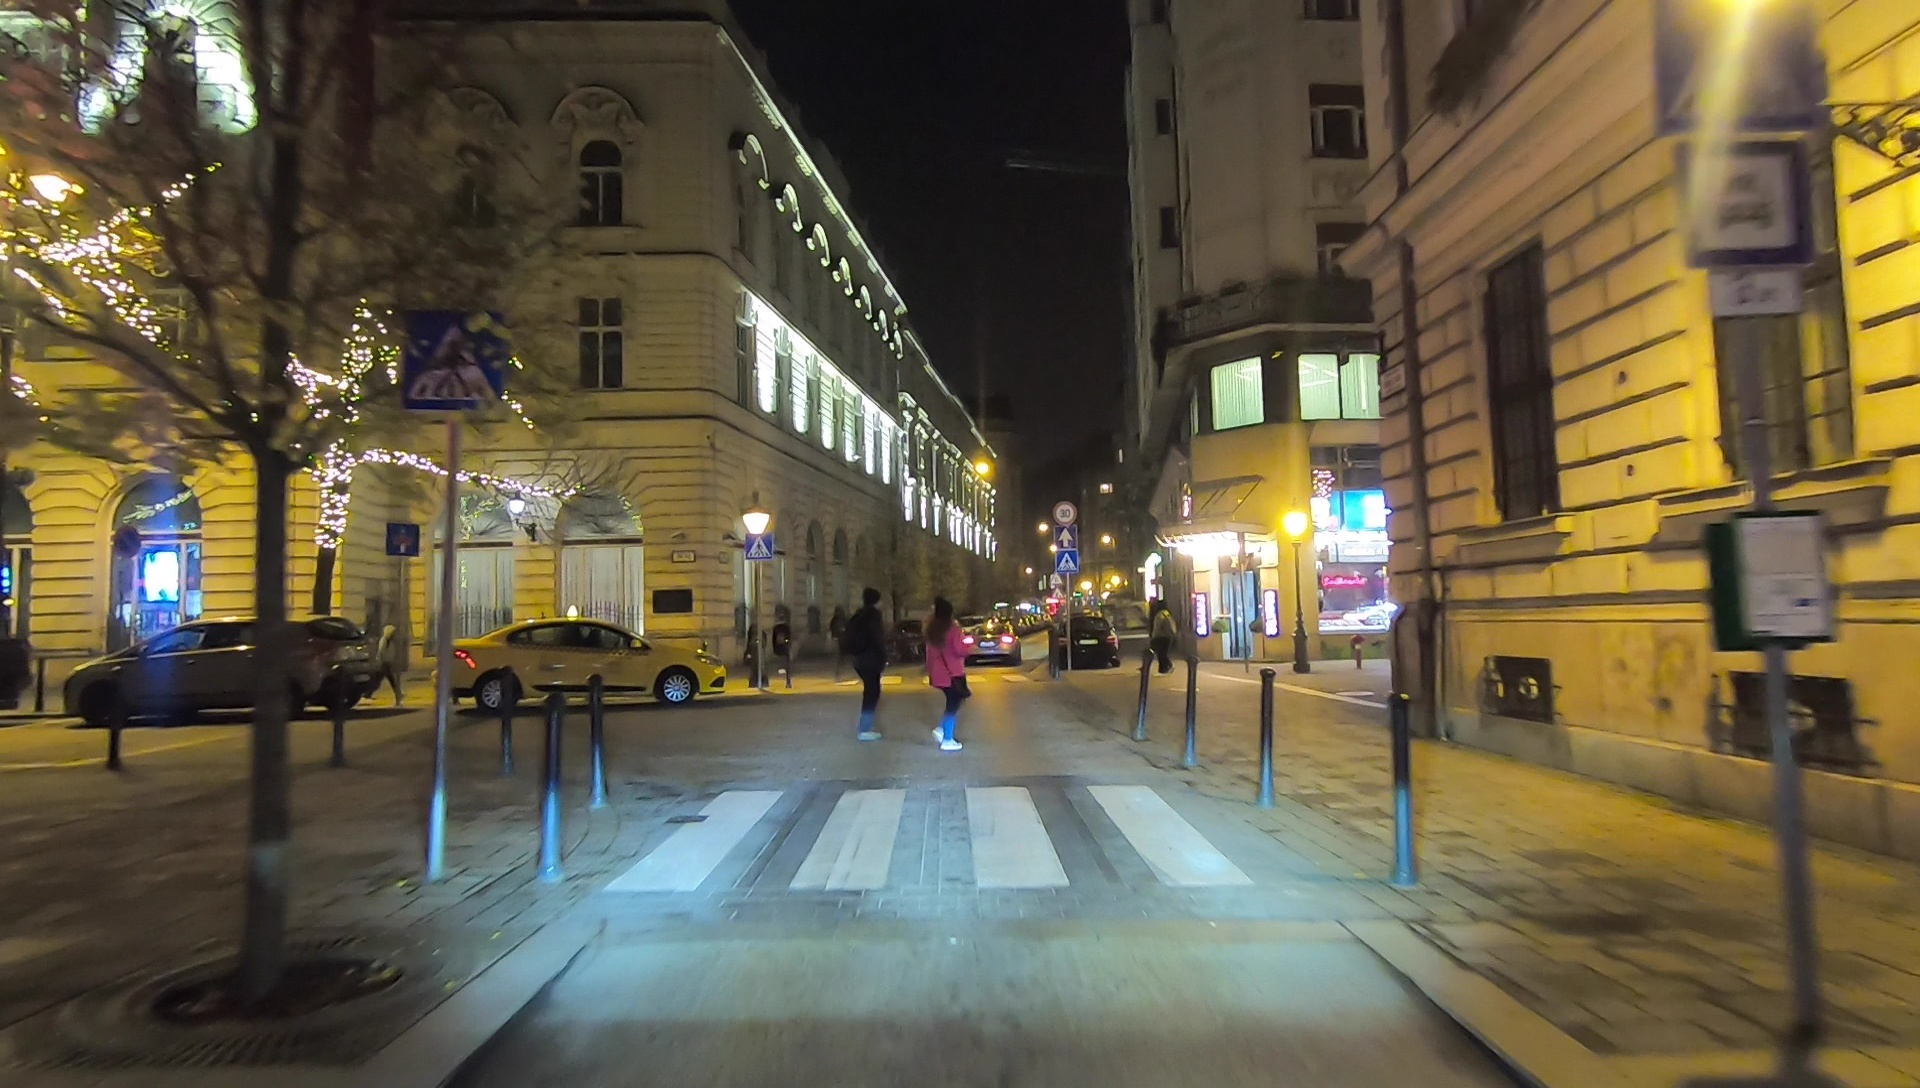person: (923, 608, 975, 754), (843, 595, 889, 737), (1152, 606, 1176, 673)
